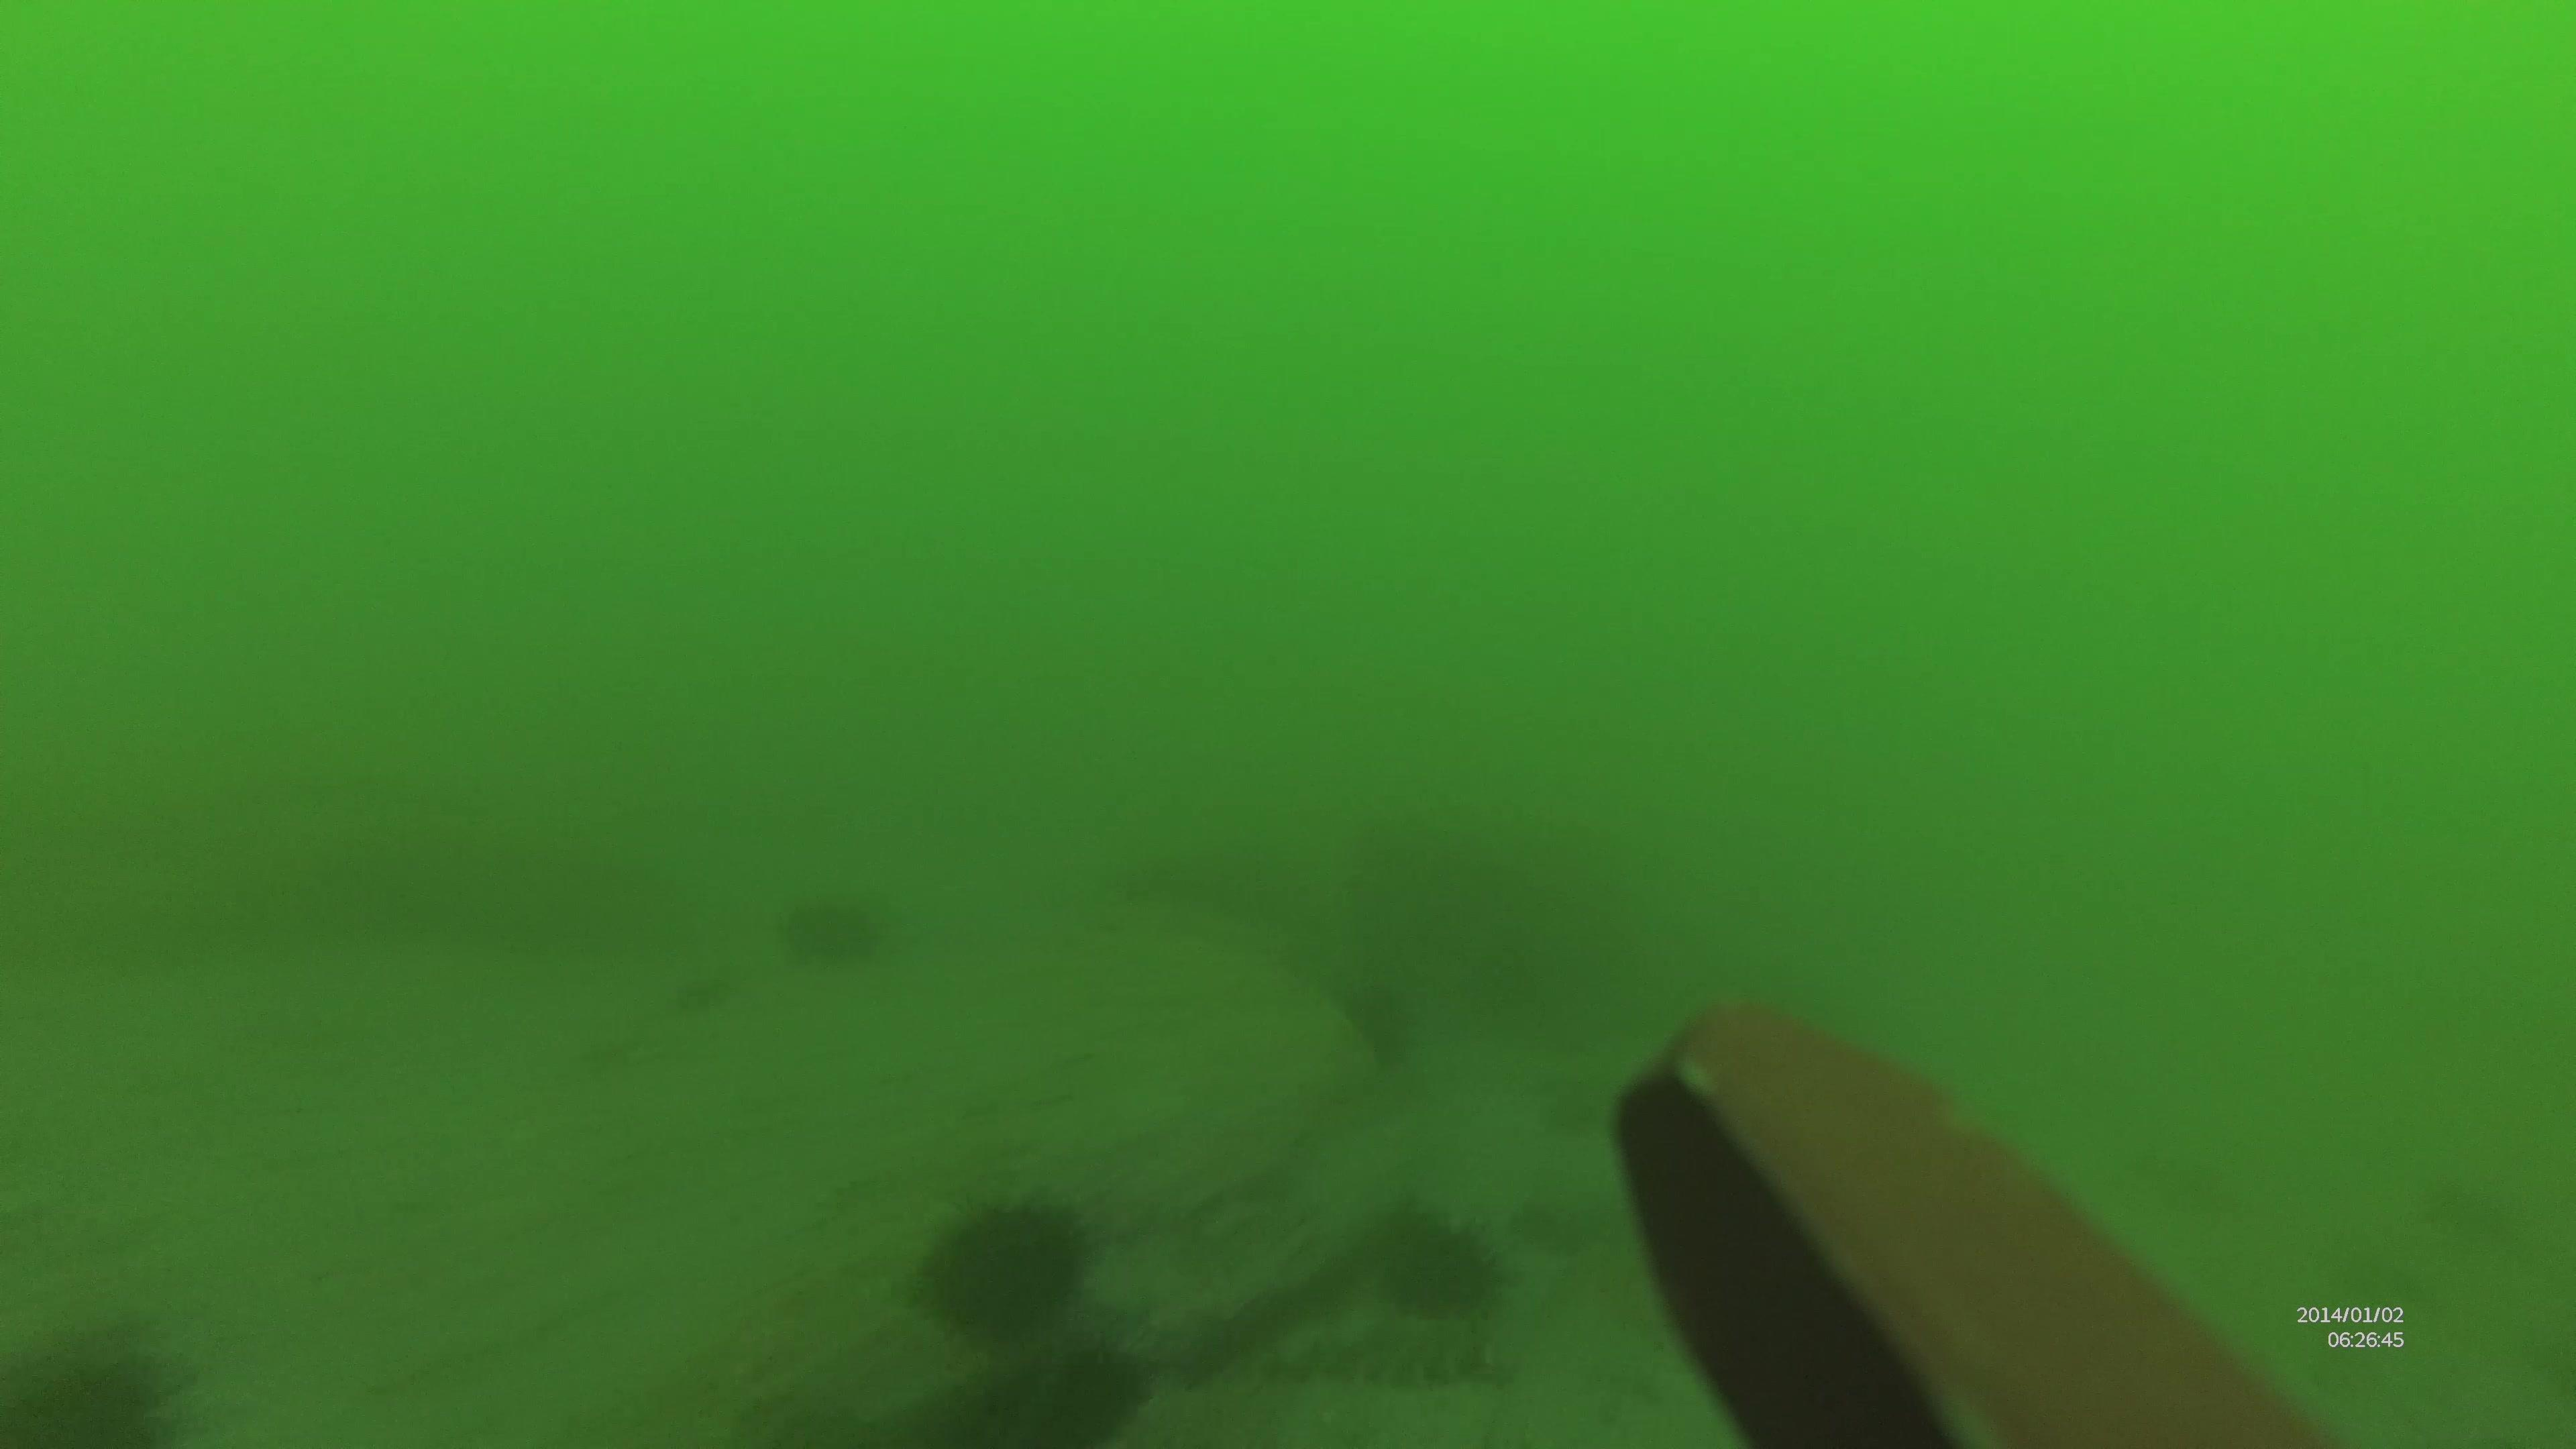echinus: (916, 1196, 1104, 1336), (952, 1332, 1152, 1449), (0, 1330, 175, 1449), (1368, 1185, 1495, 1311), (766, 878, 886, 973)
holothurian: (1251, 1316, 1511, 1401)
